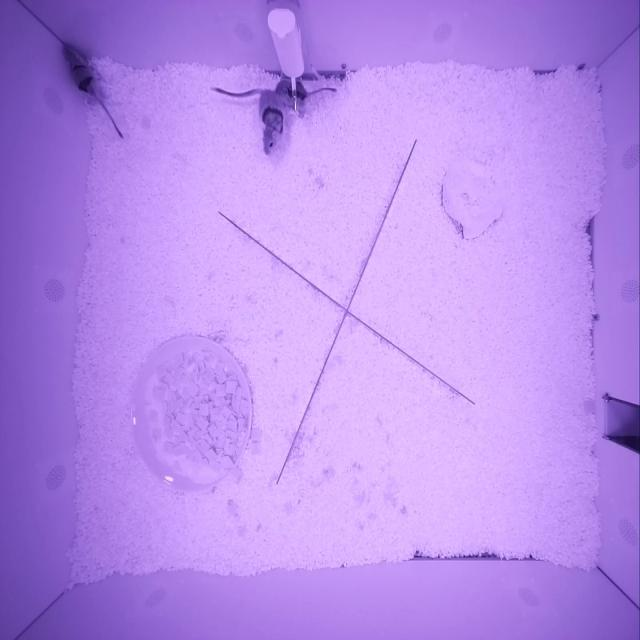adult_front: (258, 89, 284, 156)
pup_h_stripe: (62, 44, 97, 97)
pup_v_stripe: (275, 79, 309, 111)
